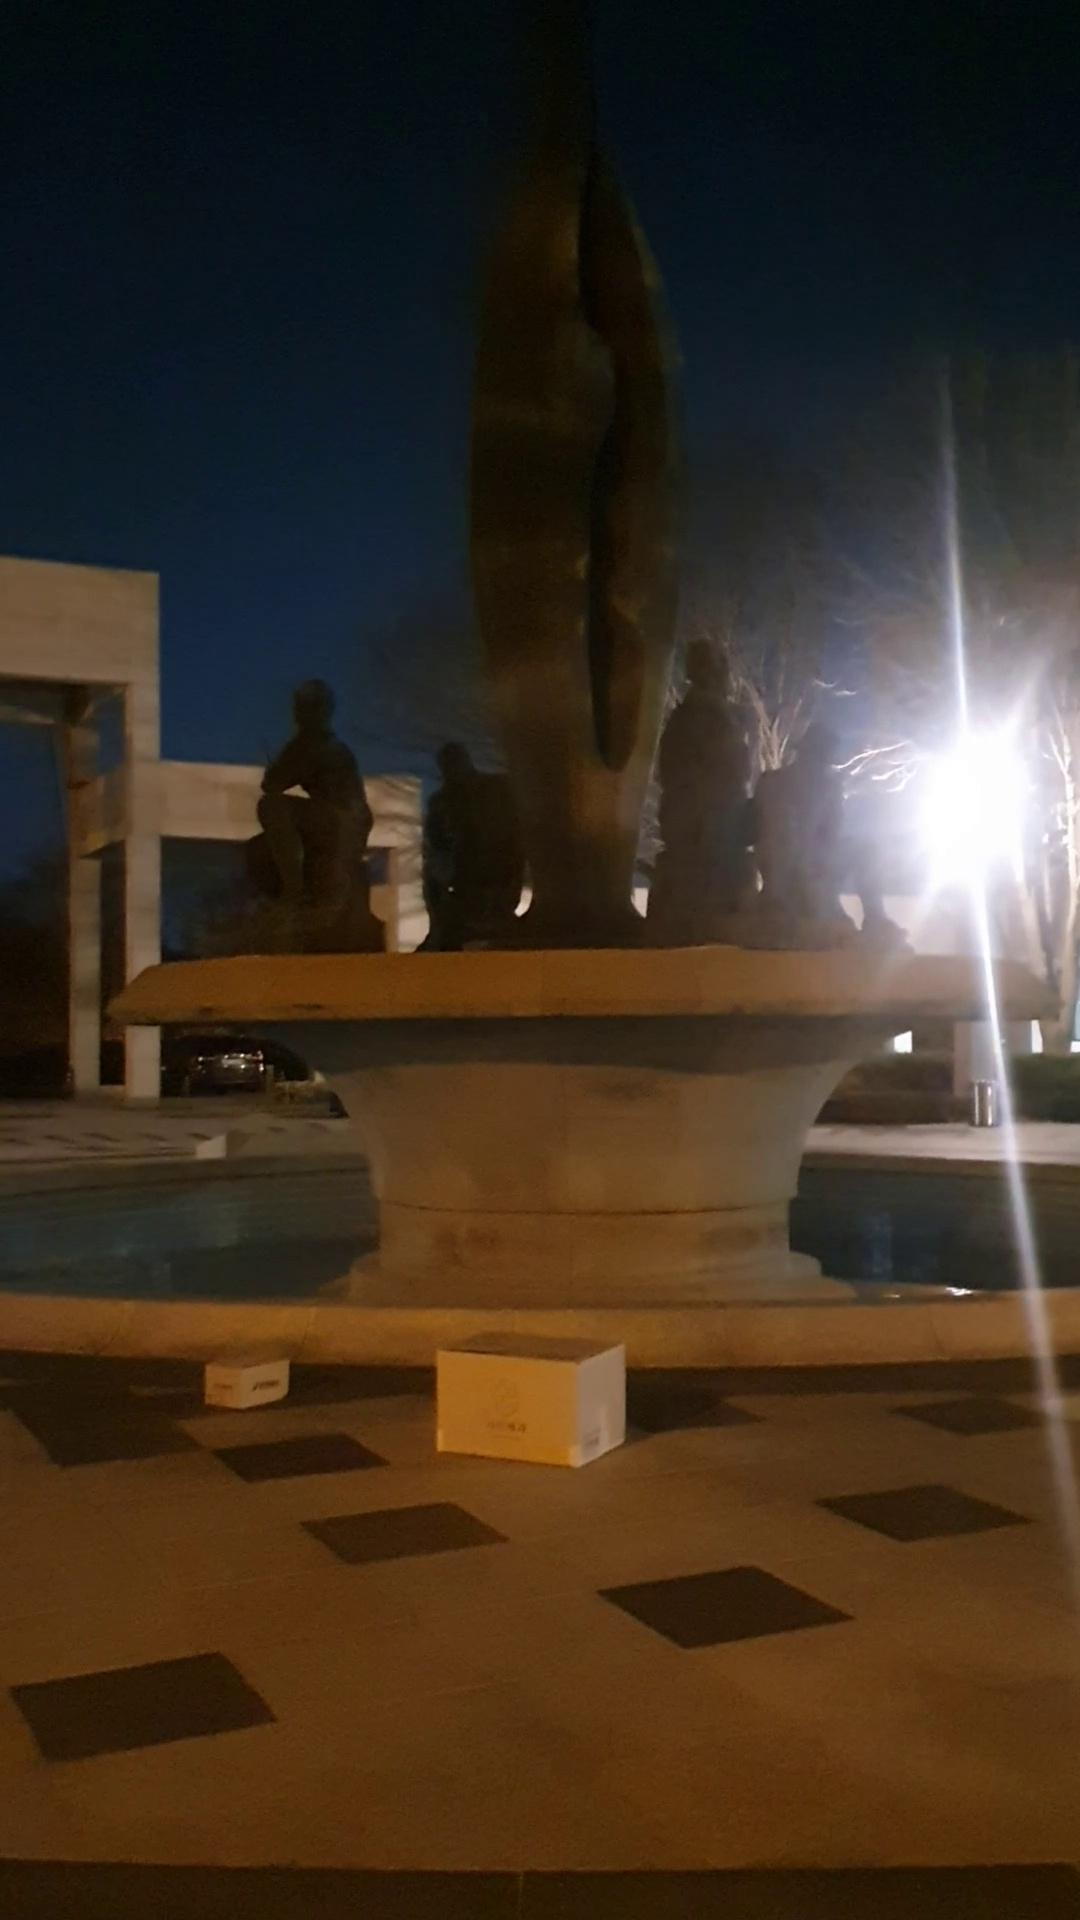Box: (415, 1308, 645, 1473), (196, 1333, 305, 1414)
